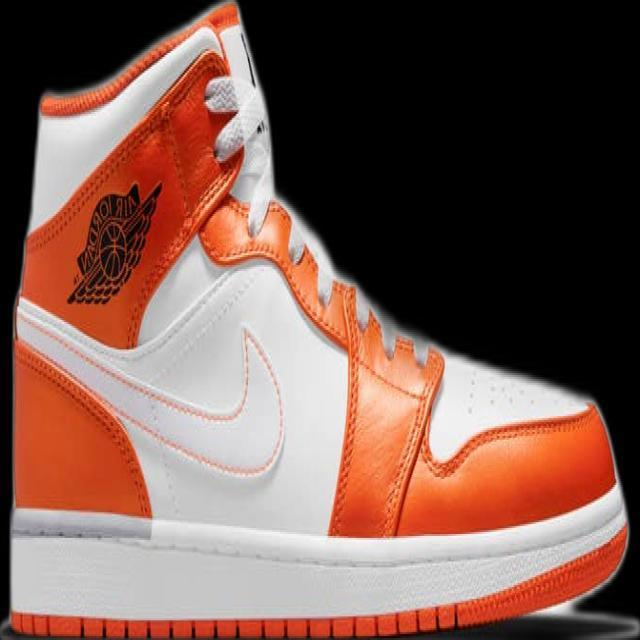J1_InsoleChar: (6, 0, 633, 639)
J1_ShoeLogo: (64, 179, 163, 306)
J1_StitchPattern: (6, 497, 631, 639), (199, 194, 445, 536), (13, 299, 288, 482), (324, 279, 446, 538), (11, 335, 154, 518), (38, 22, 223, 118), (6, 603, 462, 639), (376, 344, 446, 539), (200, 71, 277, 237), (200, 73, 266, 164)
